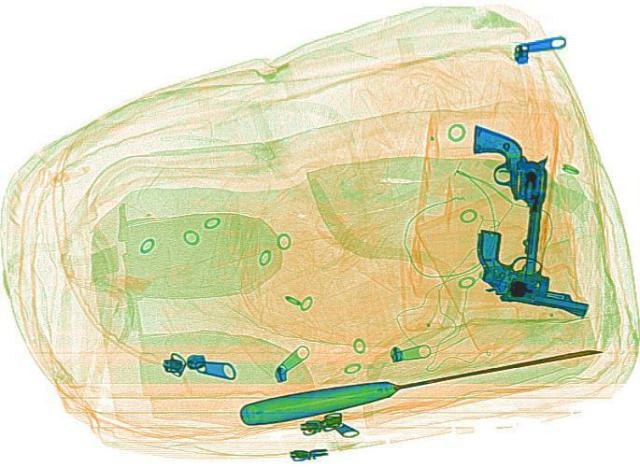Gun: (461, 123, 552, 280), (452, 227, 610, 316)
Knife: (232, 337, 606, 426)
